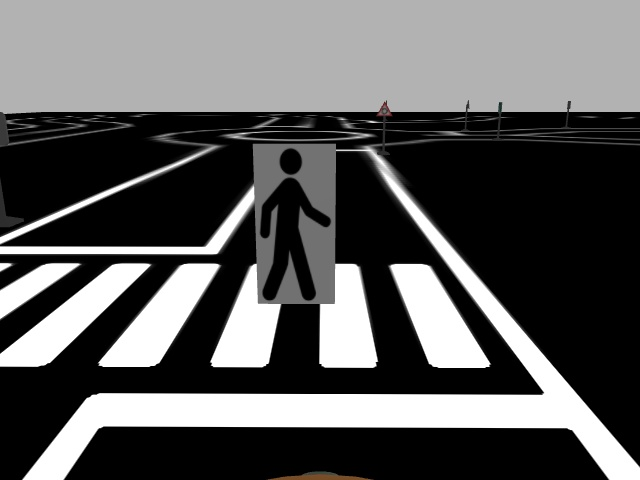pedestrian: (251, 141, 337, 307)
